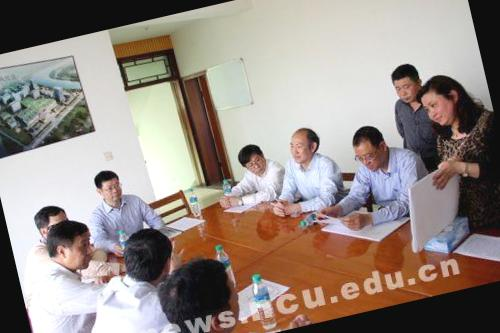no_helmet: (153, 246, 251, 333), (413, 64, 475, 136), (117, 220, 181, 288), (37, 213, 98, 278), (344, 119, 394, 177), (386, 58, 428, 108), (88, 162, 128, 210), (30, 198, 73, 241), (284, 122, 326, 166), (232, 140, 270, 178)
